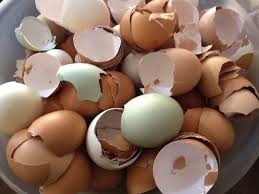kitchen_waste: (149, 128, 223, 194), (3, 128, 79, 185), (119, 88, 189, 148), (135, 46, 206, 98), (117, 6, 182, 54), (26, 109, 96, 153), (181, 103, 237, 156), (68, 22, 127, 71), (197, 3, 252, 55), (55, 58, 113, 105), (203, 74, 259, 122), (19, 50, 66, 101), (1, 80, 44, 135), (197, 52, 244, 98), (11, 14, 60, 53)
